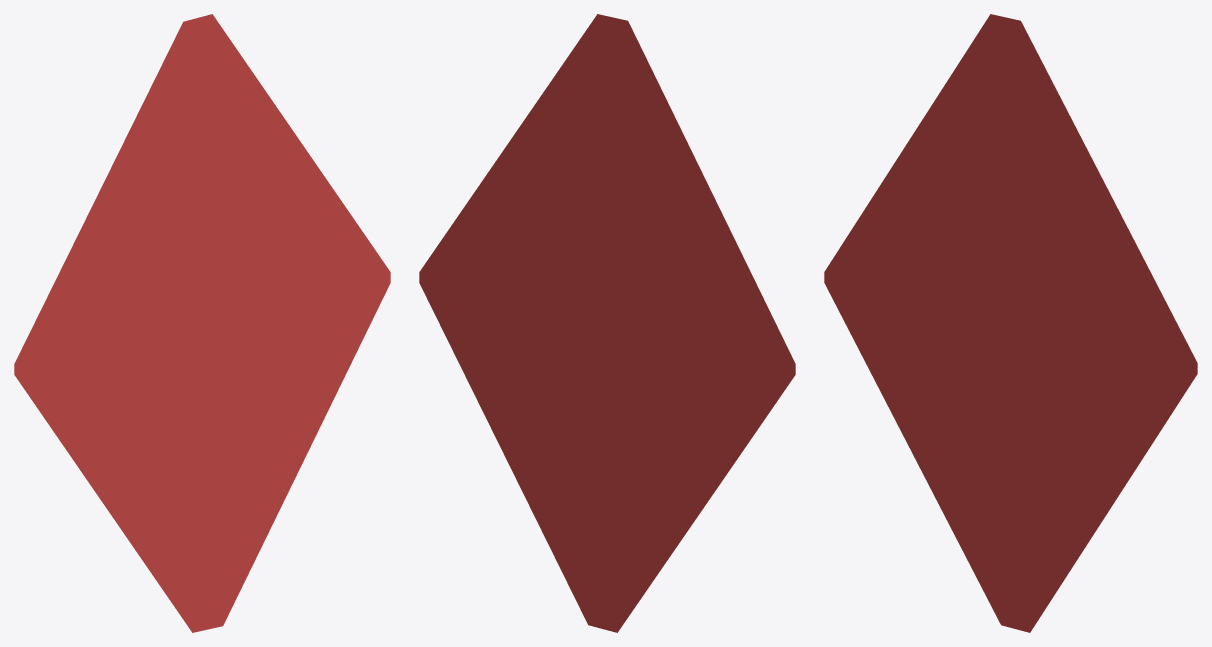
Rendered from 30_red.fbx.
3 renders of one model, left to right at view 1: azimuth 30°, elevation 25°; view 2: azimuth 150°, elevation 25°; view 3: azimuth 330°, elevation 25°, orthographic.
Visible parts, largest first — view 1: 30_red; view 2: 30_red; view 3: 30_red.
Boxes of the visible parts, x1,y1,x2,y2 form: 30_red: (14,14,390,632); 30_red: (419,14,795,632); 30_red: (824,14,1197,632).
Size of the model in its own units: 58.47 by 91.13 by 0.183.
